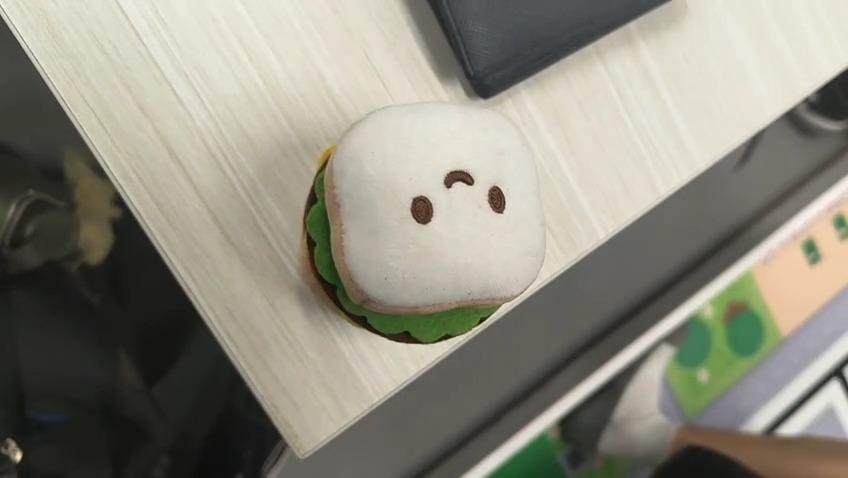objects: (300, 102, 538, 347)
